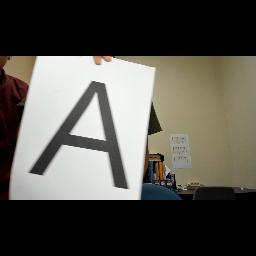a: (23, 72, 135, 198)
